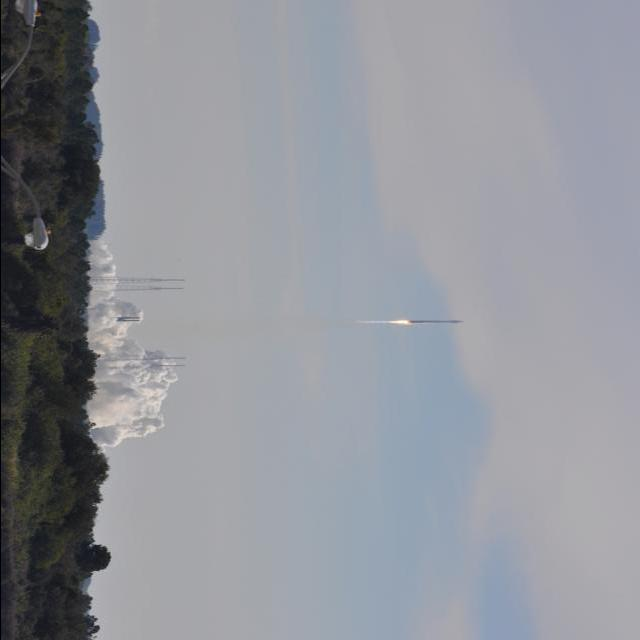missile: (408, 316, 463, 326)
